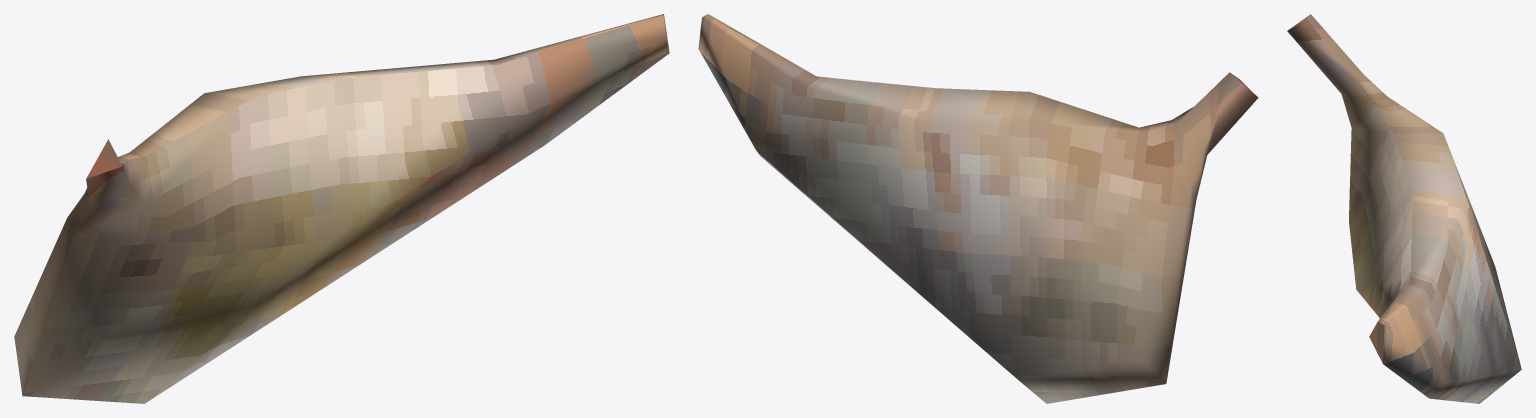
File: eqp_organ_stomach_s01_l3.fbx
3 renders of one model, left to right at view 1: azimuth 30°, elevation 25°; view 2: azimuth 150°, elevation 25°; view 3: azimuth 270°, elevation 25°, orthographic. The views are drawn at different scales.
Parts seen in each view (by area): view 1: mesh_node; view 2: mesh_node; view 3: mesh_node.
Part boxes in pixels (x1,y1,x2,y2): mesh_node: (14, 14, 669, 403); mesh_node: (698, 14, 1258, 403); mesh_node: (1287, 14, 1521, 403).
Size of the model in its own units: 0.8113 by 0.4481 by 0.2865.
